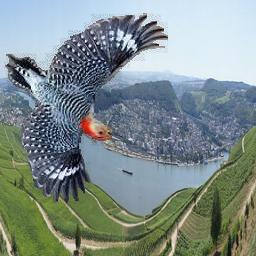Woodpecker: (4, 14, 168, 205)
